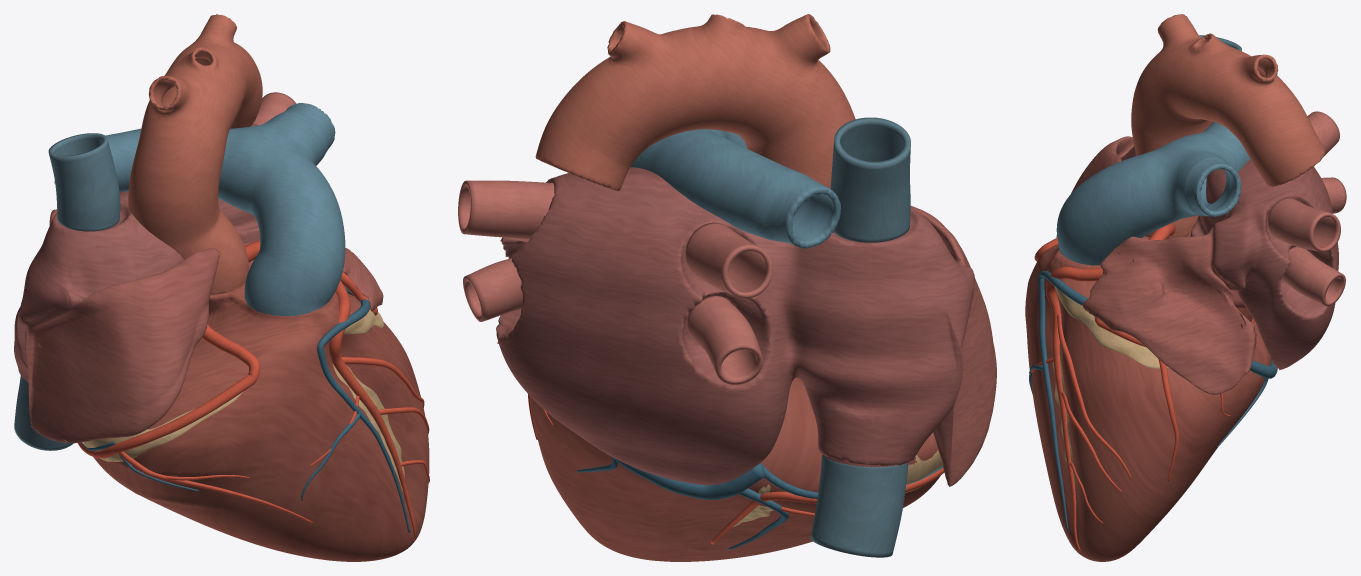
File: whole.glb
3 views of the same model, side by side, from view 1: azimuth 30°, elevation 25°; view 2: azimuth 150°, elevation 25°; view 3: azimuth 270°, elevation 25° (orthographic). The views are drawn at different scales.
Parts seen in each view (by area): view 1: Ventricular_myocardium, Atrial_Myocardium, Aorta, Pulmonary_tree, SVC, A09_Right_AV_to_posterior, A01_Anterior_interventricular, V01_Great_cardiac, IVC, F03_Right_coronary_groove, F01_Anterior_groove, A10_Acute_marginal (+3 smaller); view 2: Atrial_Myocardium, Aorta, Ventricular_myocardium, Pulmonary_tree, SVC, IVC, LSPV, RSPV, RIPV, LIPV, V03_Coronary_sinus, A09_Right_AV_to_posterior (+2 smaller); view 3: Atrial_Myocardium, Ventricular_myocardium, Aorta, Pulmonary_tree, LSPV, LIPV, A01_Anterior_interventricular, V01_Great_cardiac, F02_Left_coronary_groove, A02_First_diagonal, RSPV, A07_Obtuse_marginal (+3 smaller).
Boxes of the visible parts, x1,y1,x2,y2 form: Ventricular_myocardium: (93, 283, 429, 561); Atrial_Myocardium: (14, 123, 383, 443); Aorta: (128, 14, 262, 294); Pulmonary_tree: (106, 103, 345, 316); SVC: (48, 133, 120, 231); A09_Right_AV_to_posterior: (78, 324, 260, 458); A01_Anterior_interventricular: (329, 280, 416, 540); V01_Great_cardiac: (317, 286, 409, 532); IVC: (14, 375, 73, 450); F03_Right_coronary_groove: (82, 391, 243, 461); F01_Anterior_groove: (333, 364, 404, 492); A10_Acute_marginal: (118, 451, 313, 523); Atrial_Myocardium: (496, 167, 996, 486); Aorta: (535, 14, 855, 191); Ventricular_myocardium: (530, 378, 940, 561); Pulmonary_tree: (630, 129, 840, 248); SVC: (830, 117, 910, 242); IVC: (810, 454, 908, 557); LSPV: (458, 180, 554, 239); RSPV: (685, 222, 772, 298); RIPV: (687, 296, 763, 384); LIPV: (463, 258, 522, 321); V03_Coronary_sinus: (612, 457, 765, 499); A09_Right_AV_to_posterior: (710, 468, 944, 544); Atrial_Myocardium: (1056, 136, 1338, 394); Ventricular_myocardium: (1025, 236, 1271, 561); Aorta: (1131, 14, 1325, 238); Pulmonary_tree: (1056, 122, 1250, 265); LSPV: (1268, 198, 1340, 251); LIPV: (1281, 246, 1345, 306); A01_Anterior_interventricular: (1045, 266, 1102, 551); V01_Great_cardiac: (1038, 270, 1087, 531); F02_Left_coronary_groove: (1054, 286, 1253, 368); A02_First_diagonal: (1057, 312, 1131, 479); RSPV: (1307, 111, 1339, 156); A07_Obtuse_marginal: (1158, 359, 1178, 481).
Size of the model in its own units: 0.1005 by 0.1298 by 0.081.
15 materials, 15 textured.
